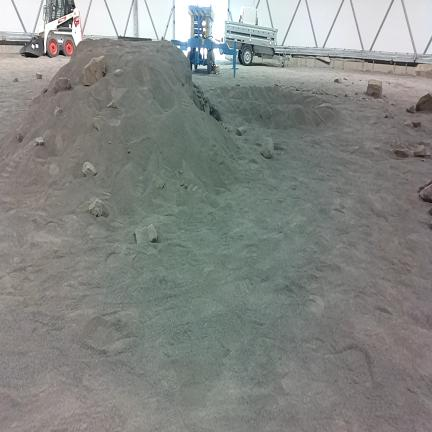Rock: (83, 56, 106, 85), (135, 224, 157, 244), (89, 199, 109, 217), (367, 80, 382, 98), (416, 93, 431, 111), (261, 138, 274, 158), (54, 78, 71, 93), (419, 185, 432, 202), (416, 64, 431, 78), (82, 162, 96, 176), (152, 175, 164, 190), (210, 106, 221, 121), (414, 145, 426, 157), (418, 181, 431, 192), (394, 148, 409, 157), (261, 108, 272, 119), (17, 127, 24, 142), (236, 126, 246, 136), (35, 136, 44, 146), (94, 118, 100, 131), (394, 138, 402, 147), (107, 101, 117, 108), (385, 110, 393, 118), (115, 69, 123, 77), (54, 107, 61, 116), (404, 121, 413, 128), (407, 106, 415, 113), (40, 87, 47, 94), (412, 122, 421, 127), (36, 73, 42, 79), (335, 79, 341, 83), (14, 78, 18, 82), (345, 94, 348, 98), (355, 92, 358, 95), (343, 78, 347, 80)
